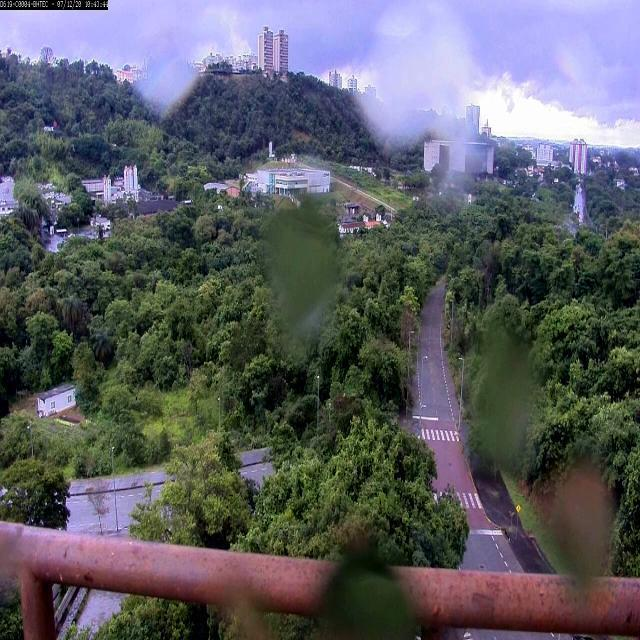Smoke: (99, 0, 554, 128), (336, 5, 497, 188)
